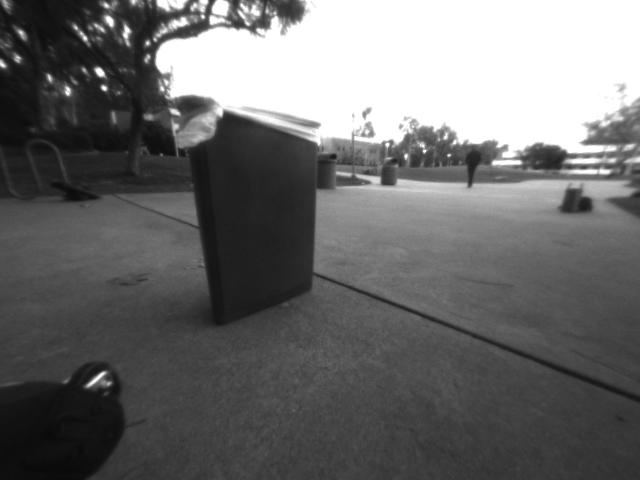trashcan: (168, 90, 332, 335)
